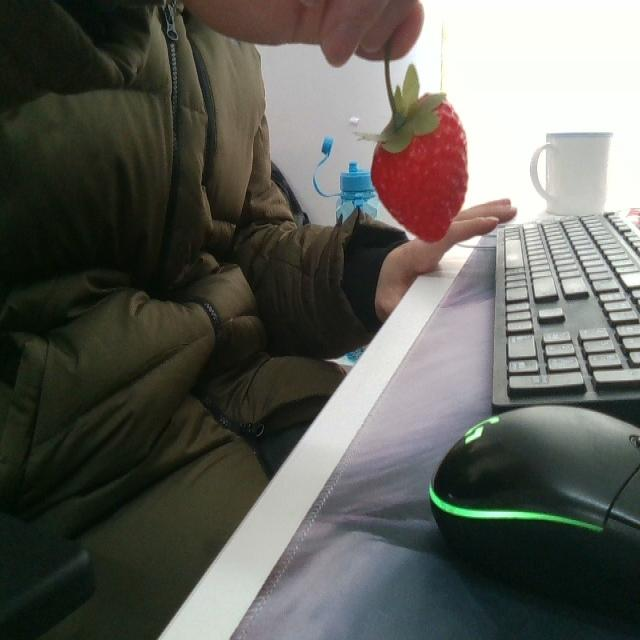mature: (363, 90, 469, 242)
